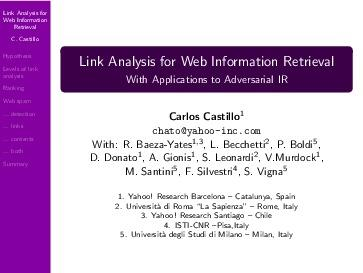subtitle: (88, 106, 324, 241)
title: (75, 44, 338, 94)
